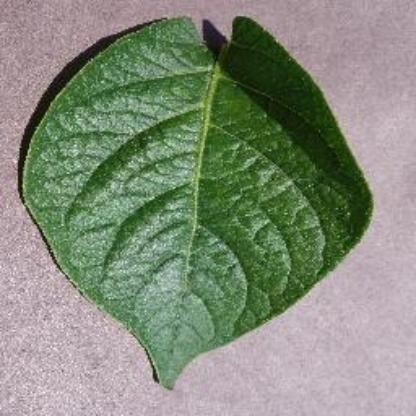Healthy-plant: (11, 3, 377, 377)
